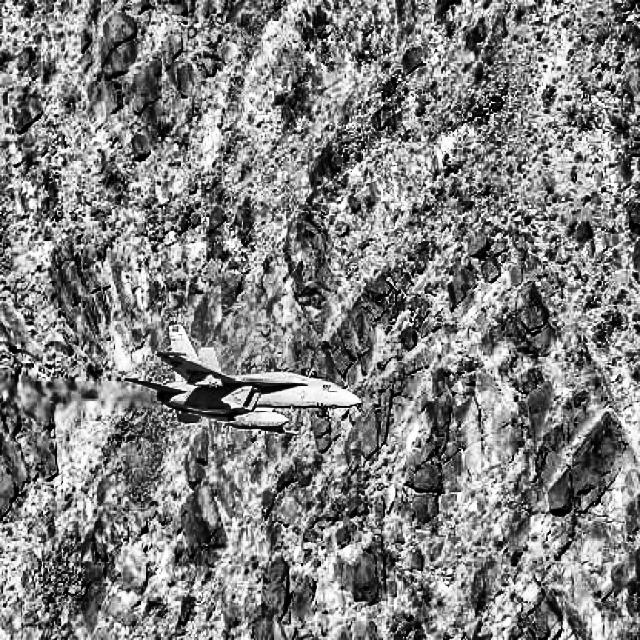F18: (123, 324, 363, 434)
